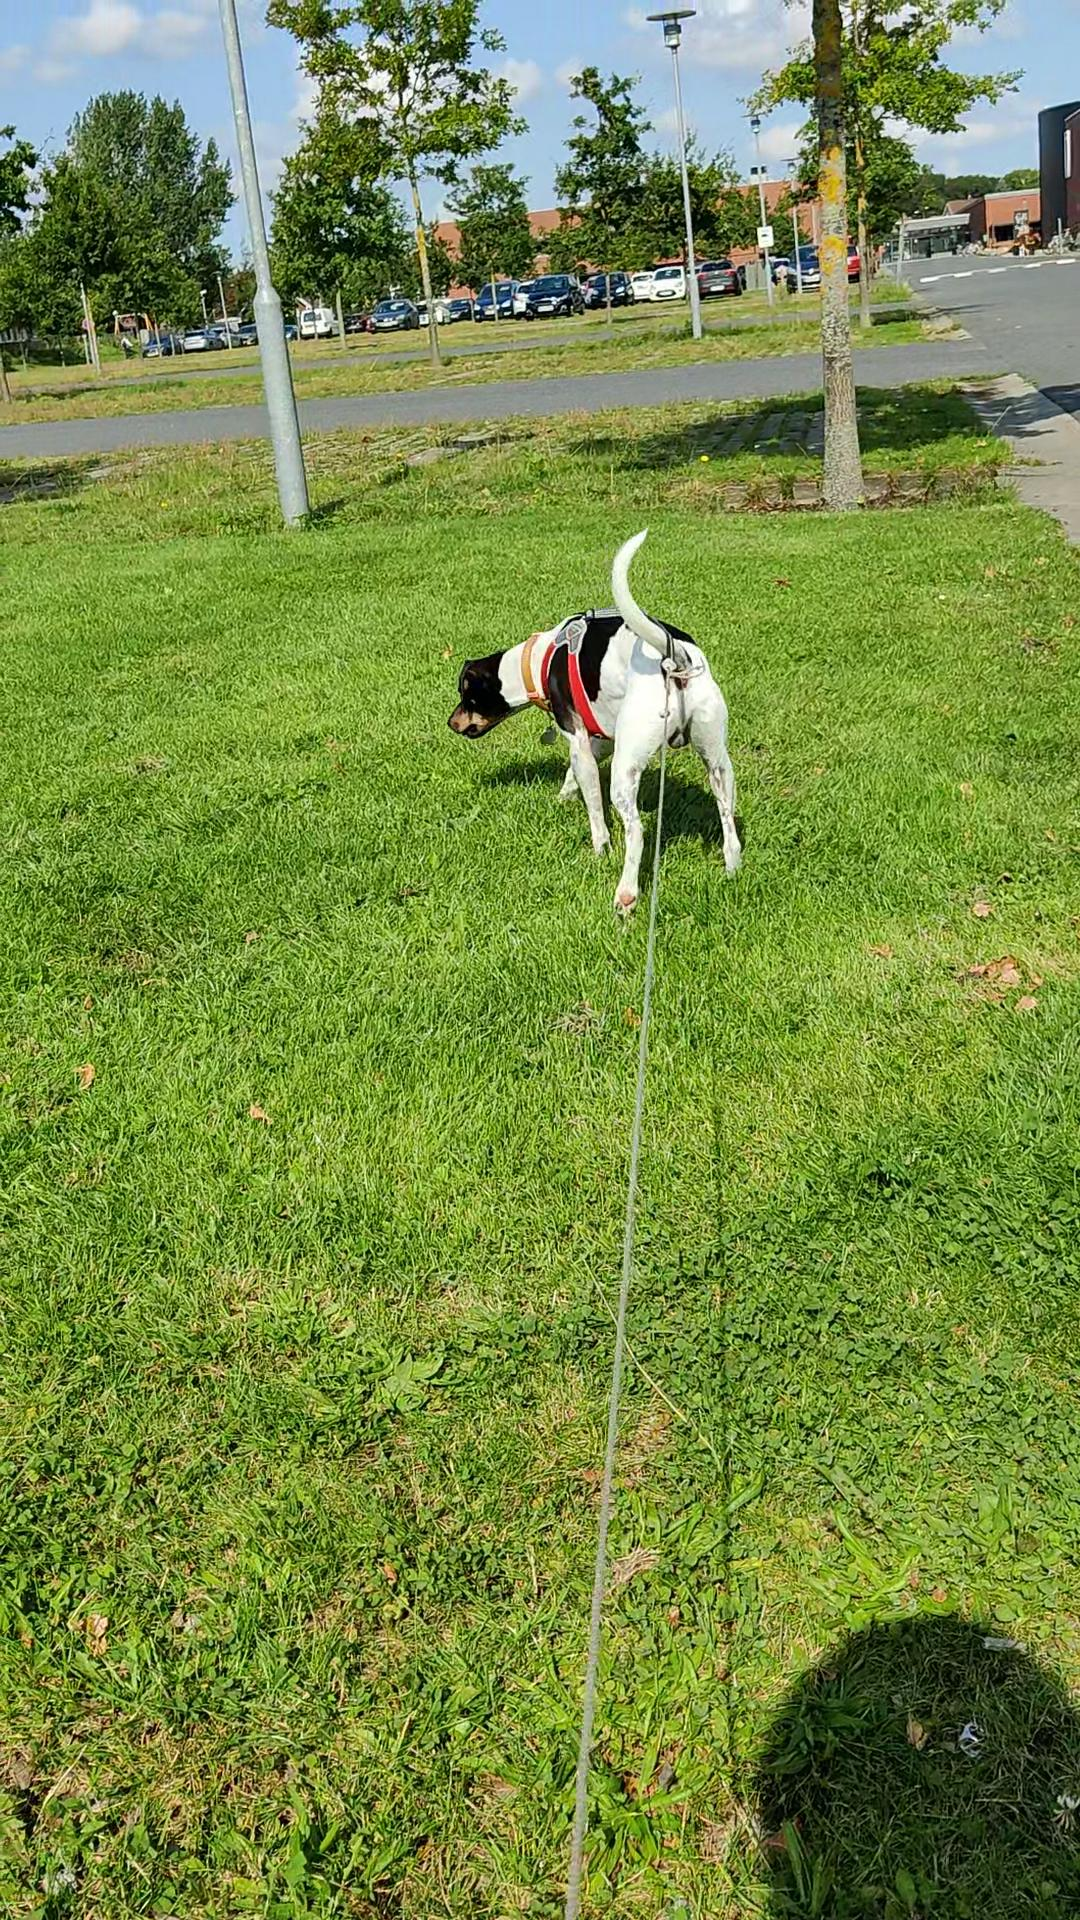Dog: (443, 524, 752, 920)
